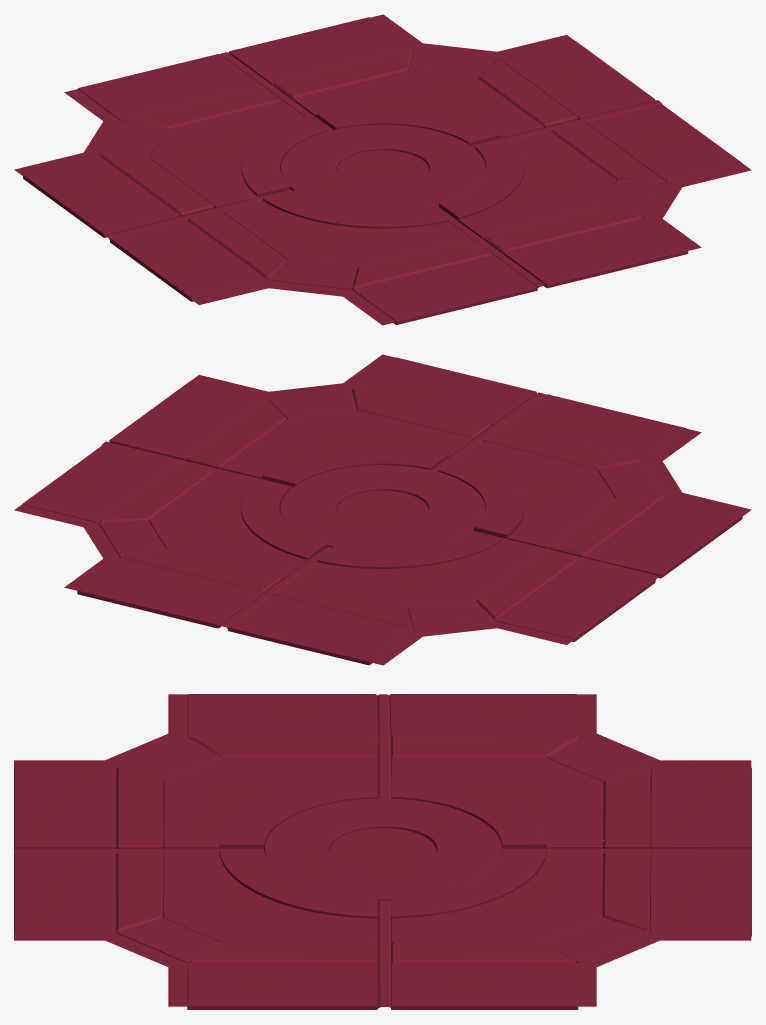
File: Ceiling02Scifi.fbx
3 views of the same model, one above another, from view 1: azimuth 30°, elevation 25°; view 2: azimuth 150°, elevation 25°; view 3: azimuth 270°, elevation 25° (orthographic). The views are drawn at different scales.
Parts seen in each view (by area): view 1: Ceiling02; view 2: Ceiling02; view 3: Ceiling02.
Boxes of the visible parts, left/top/right/bottom form: Ceiling02: left=14, top=14, right=751, bottom=325; Ceiling02: left=14, top=354, right=751, bottom=665; Ceiling02: left=14, top=694, right=751, bottom=1009.
Bounding box in the file's own units: 21511 × 247 × 21436.
